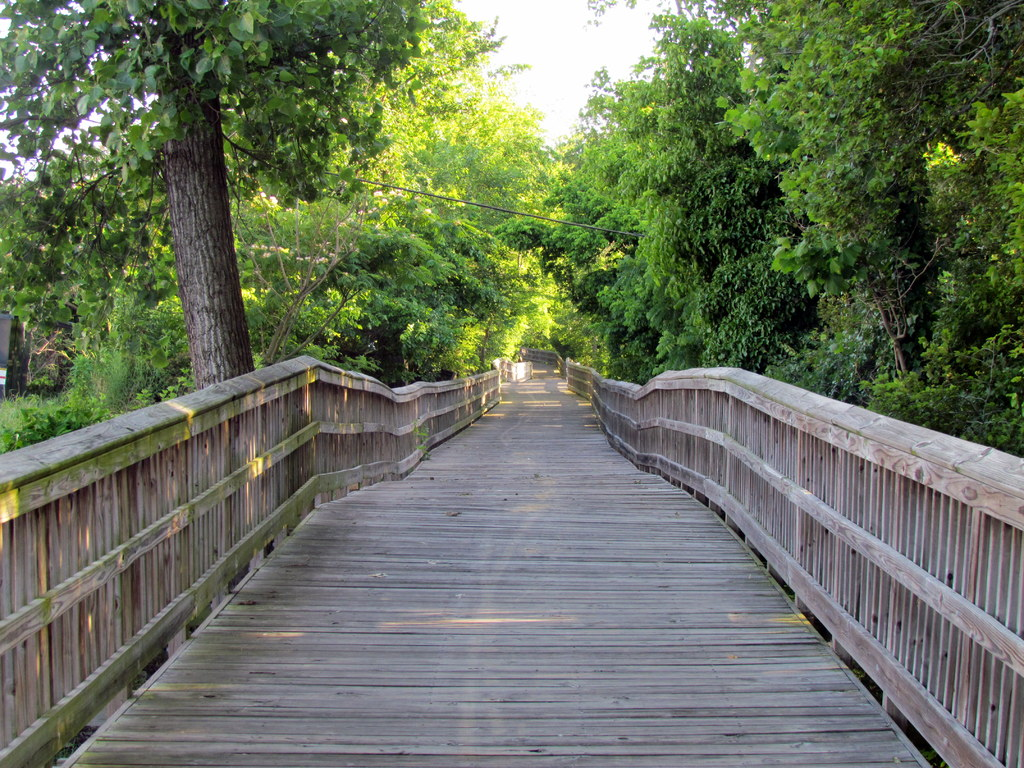Tree: (0, 0, 1023, 467)
